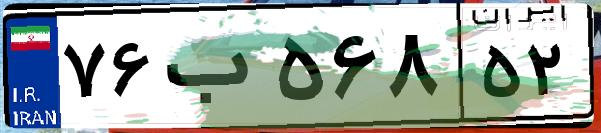2: (525, 38, 570, 115)
5: (270, 28, 330, 110), (475, 38, 525, 113)
6: (330, 28, 385, 110), (110, 28, 158, 98)
7: (57, 26, 110, 100)
8: (385, 28, 445, 110)
ب: (158, 20, 270, 120)
